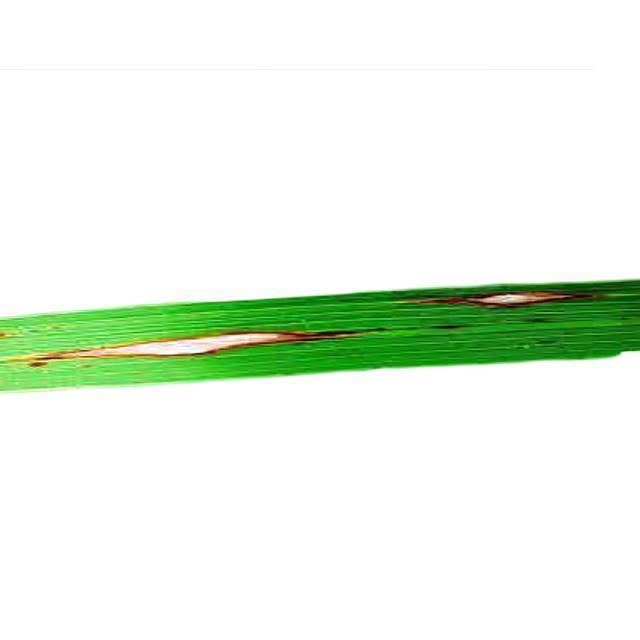Leaf_Blast: (32, 328, 351, 368), (411, 281, 618, 315)
